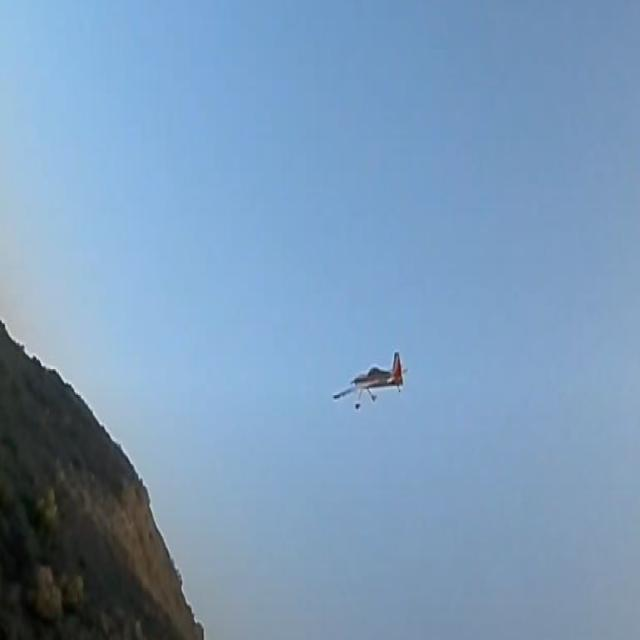iha: (368, 350, 373, 412)
